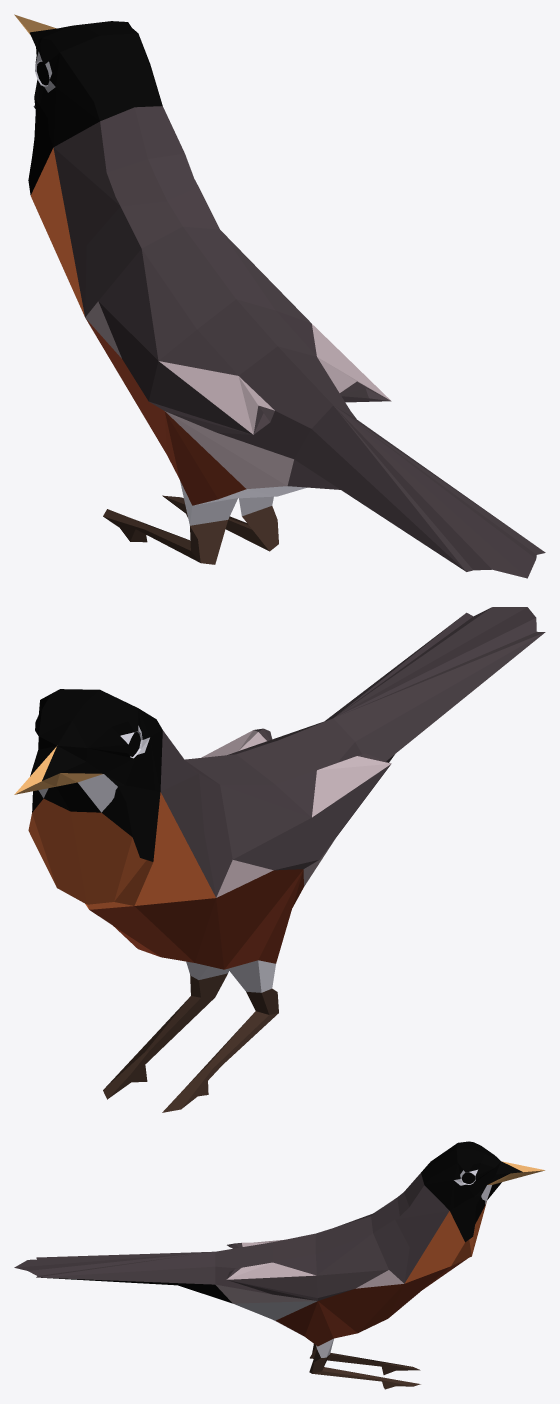
The model's file is PRP_FinchThin.glb.
3 views of the same model, one above another, from view 1: azimuth 30°, elevation 25°; view 2: azimuth 150°, elevation 25°; view 3: azimuth 270°, elevation 25° (orthographic). The views are drawn at different scales.
Parts seen in each view (by area): view 1: Object_8, Object_4, Object_10, Object_6, Object_11, Object_5, Object_9; view 2: Object_8, Object_4, Object_5, Object_6, Object_11, Object_10, Object_9, Object_7; view 3: Object_8, Object_4, Object_6, Object_10, Object_5, Object_11, Object_9, Object_7.
Boxes of the visible parts, <box> form: Object_8: <box>53,106,545,578</box>; Object_4: <box>28,21,162,194</box>; Object_10: <box>85,301,390,488</box>; Object_6: <box>85,318,246,505</box>; Object_11: <box>103,495,278,564</box>; Object_5: <box>30,148,84,316</box>; Object_9: <box>33,51,306,525</box>; Object_8: <box>160,607,545,897</box>; Object_4: <box>30,689,162,861</box>; Object_5: <box>28,792,215,909</box>; Object_6: <box>90,869,303,969</box>; Object_11: <box>103,973,278,1112</box>; Object_10: <box>201,730,390,897</box>; Object_9: <box>36,715,275,992</box>; Object_7: <box>14,746,102,794</box>; Object_8: <box>14,1173,449,1300</box>; Object_4: <box>41,1141,522,1303</box>; Object_6: <box>276,1258,467,1346</box>; Object_10: <box>215,1239,403,1303</box>; Object_5: <box>405,1201,486,1283</box>; Object_11: <box>309,1344,420,1389</box>; Object_9: <box>233,1169,491,1357</box>; Object_7: <box>488,1161,544,1184</box>.
Bounding box in the file's own units: 0.8227 × 2.06 × 4.28.
